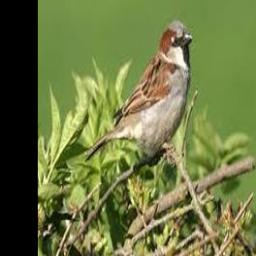Sparrow: (83, 20, 193, 164)
